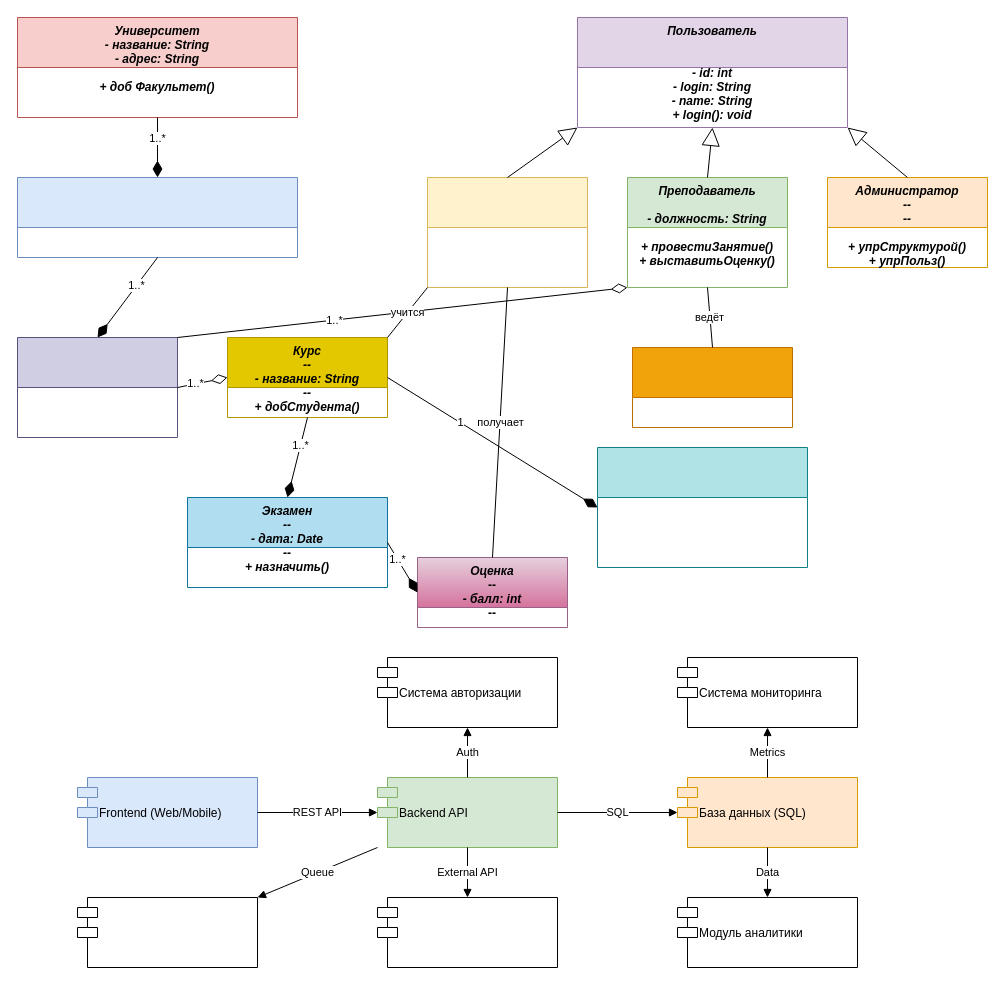
This 1005x985 diagram has some shape labels left out. The centre of each missing label's shape, as x and y in pixels:
Журнал успеваемости -- -- + генОтчет(): point (712, 387)
Кафедра -- - название: String -- + добПреп() + добКурс(): point (97, 387)
Платежный шлюз: point (467, 932)
Расписание -- - дата: Date - время: Time - ауд: String -- + создать(): point (702, 507)
Система уведомлений: point (167, 932)
Студент - номерЗачетки: String + регНаКурс() + просмОценки(): point (507, 232)
Факультет - название: String + добКафедру(): point (157, 217)
